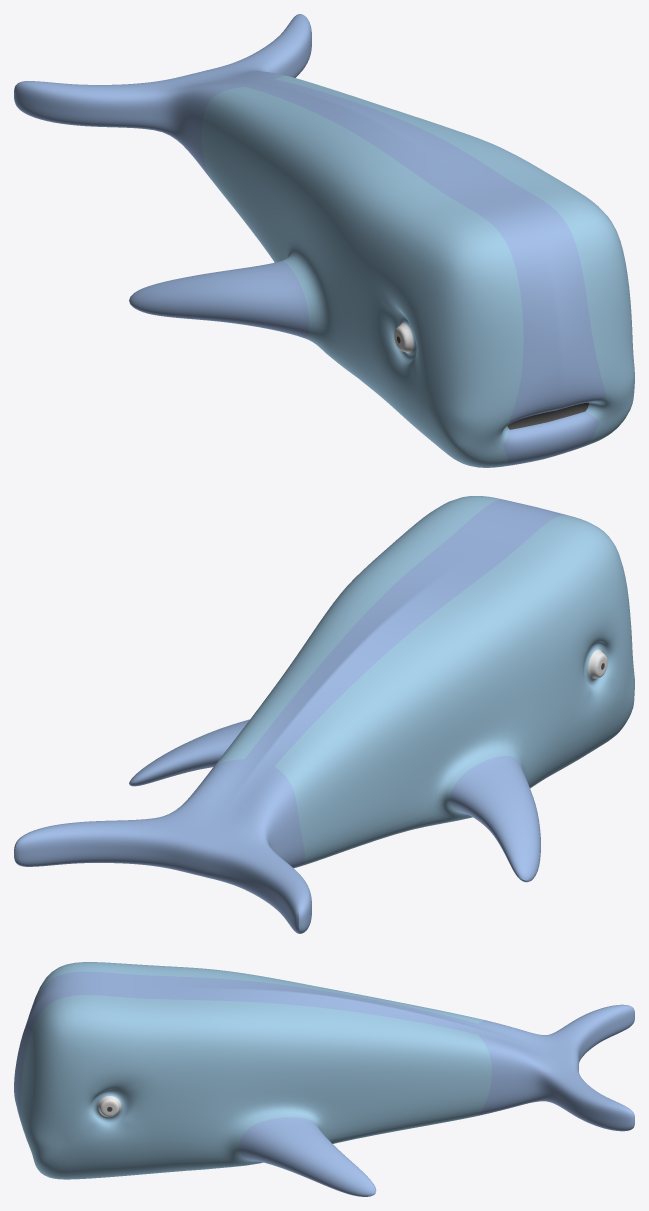
Rendered from whale.fbx.
3 views of the same model, one above another, from view 1: azimuth 30°, elevation 25°; view 2: azimuth 150°, elevation 25°; view 3: azimuth 270°, elevation 25° (orthographic). The views are drawn at different scales.
Visible parts, largest first — view 1: whale_01; view 2: whale_01; view 3: whale_01.
Boxes of the visible parts, x1,y1,x2,y2 form: whale_01: (14,14,634,467); whale_01: (14,496,634,933); whale_01: (14,962,634,1196).
Bounding box in the file's own units: 399 × 226 × 703.
